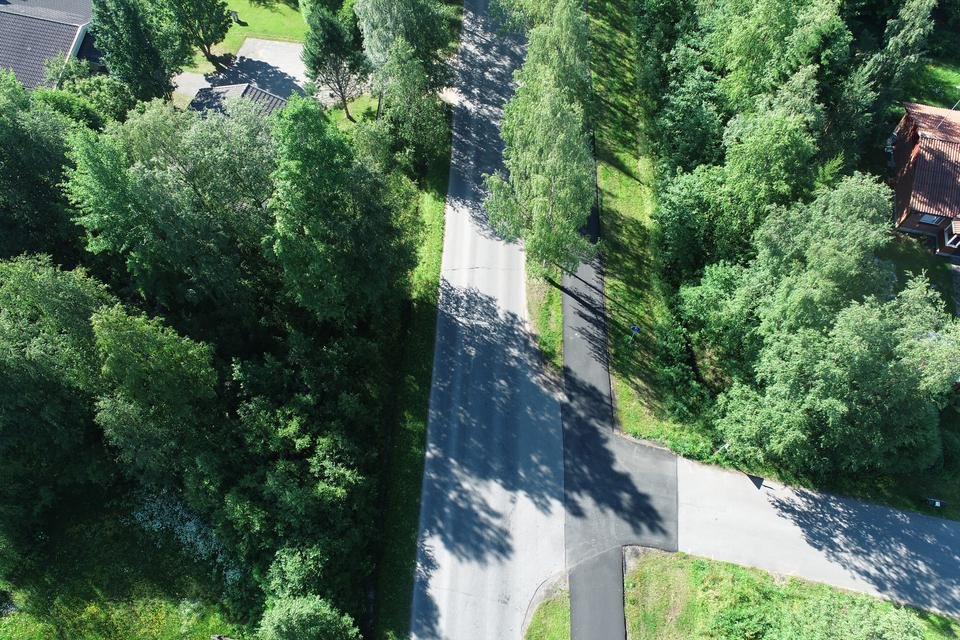intersection: (402, 353, 660, 589)
